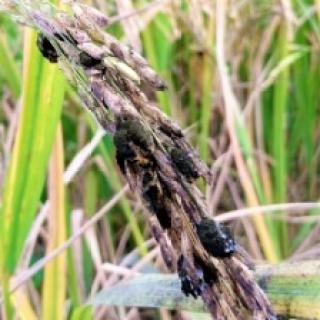Gosong-Palsu: (111, 114, 159, 178), (136, 186, 180, 237), (176, 250, 214, 298), (196, 217, 236, 256), (170, 147, 197, 177), (39, 34, 56, 61)
